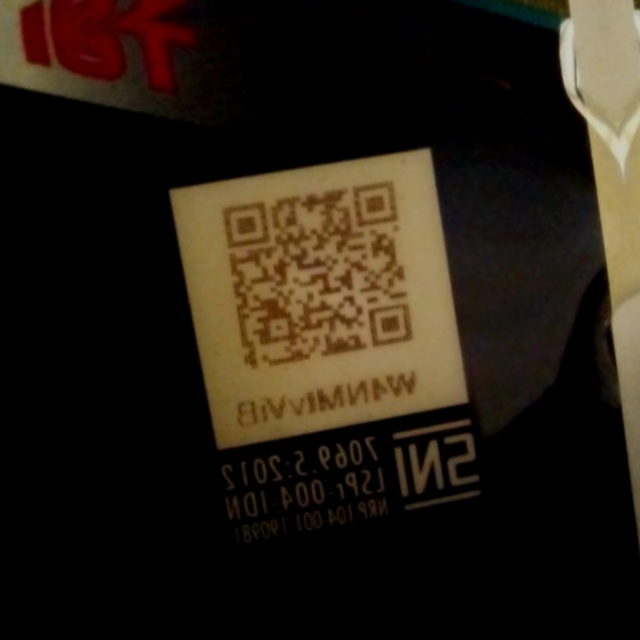qr-code: (209, 168, 425, 382)
